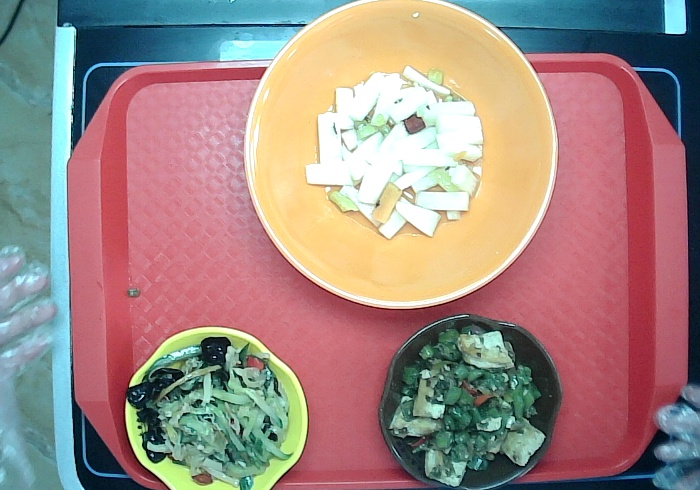YKMZ-Huang_Se_Ao_Bian_Wan: (123, 325, 310, 490)
YKMZ-Ju_Se_Tang_Wan: (241, 1, 561, 312)
YKMZ-Ka_Fei_Ao_Bian_Wan: (376, 312, 566, 490)
